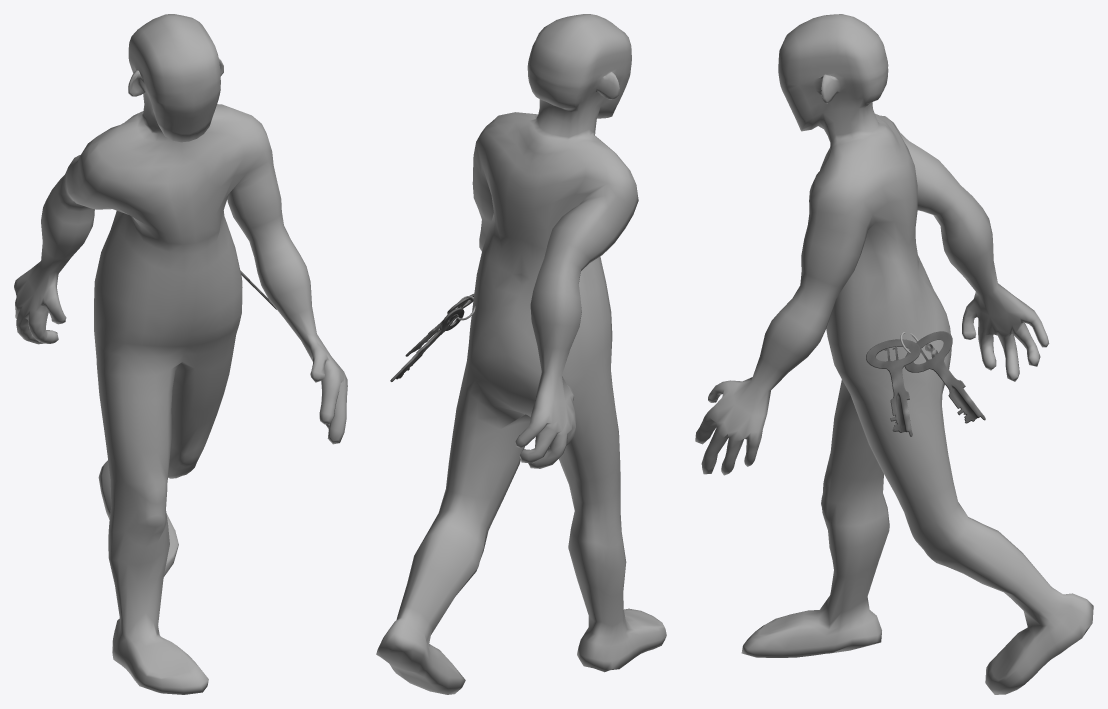
Rendered from guardwalkingmodel.fbx.
3 renders of one model, left to right at view 1: azimuth 30°, elevation 25°; view 2: azimuth 150°, elevation 25°; view 3: azimuth 270°, elevation 25°, orthographic.
Visible parts, largest first — view 1: mesh; view 2: mesh, key12; view 3: mesh, key12, key11.
Part boxes in pixels (<box>): mesh: <box>14,14,347,694</box>; mesh: <box>376,14,666,694</box>; key12: <box>390,308,464,381</box>; mesh: <box>695,14,1093,694</box>; key12: <box>904,331,985,423</box>; key11: <box>866,339,920,436</box>.
Size of the model in its own units: 19.07 by 55.8 by 30.95.
7 materials, 5 textured.
